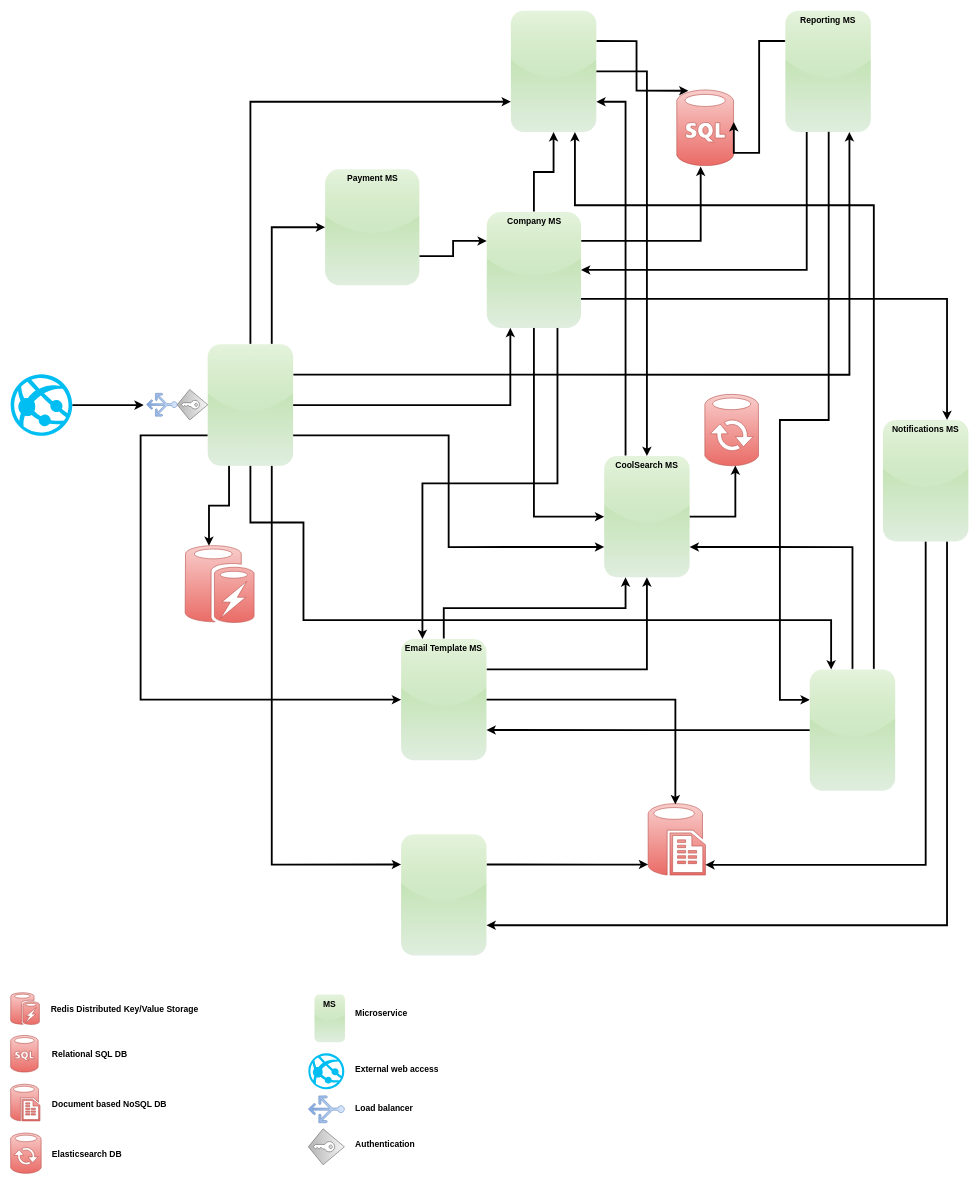
The diagram is 979 pixels wide and 1184 high, and some of its shapes have lost their labels. Each missing label, with the centre of its shape:
"Address MS" belongs at point 852,730.
"CoolFS MS" belongs at point 443,894.
"Gateway MS" belongs at point 250,404.
"Translation MS" belongs at point 553,71.
